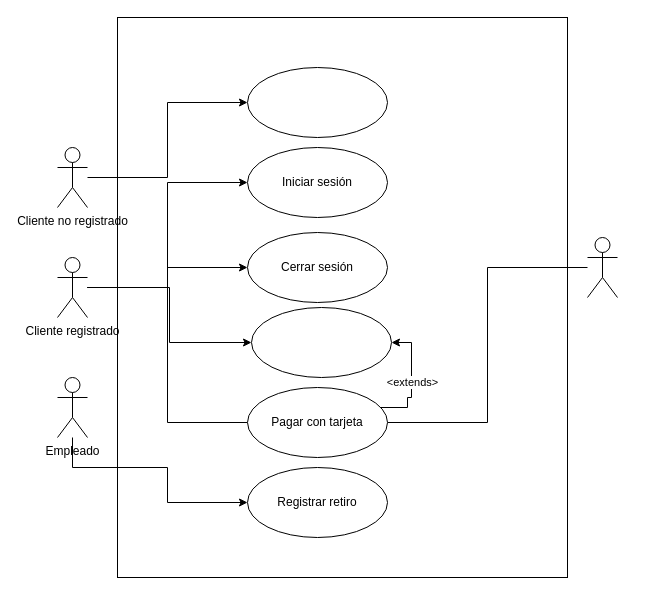
Some shapes in this 669 by 595 pixel diagram are drawn without their labels. Each missing label, with the centre of its shape:
Realizar registro: (317,102)
Sistema del banco: (602,267)
Subir foto: (321,342)
